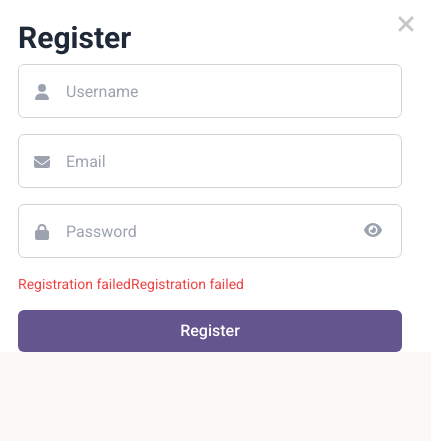
Test: RegisterForm Component › shows validation errors for incorrect input
Click the button "Register" at (210, 331), box [18,310,402,352]
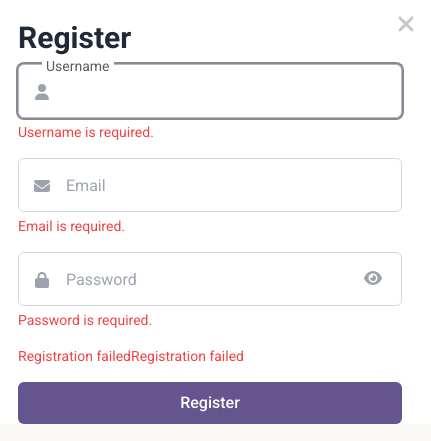
expect the text "Username is required." is shown: met, box [18,124,154,140]
expect the text "Email is required." is shown: met, box [18,218,125,234]
expect the text "Password is required." is shown: met, box [18,312,152,328]
